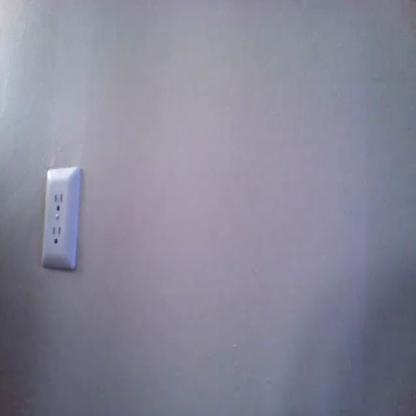OUTLET: (41, 167, 82, 265)
